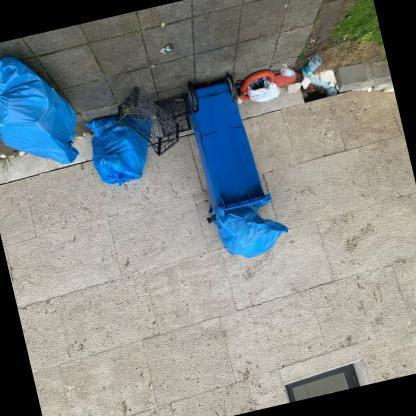Garbage: (0, 30, 99, 199), (80, 104, 165, 187), (210, 200, 295, 270), (246, 74, 284, 106), (300, 49, 332, 78), (280, 59, 300, 80)
